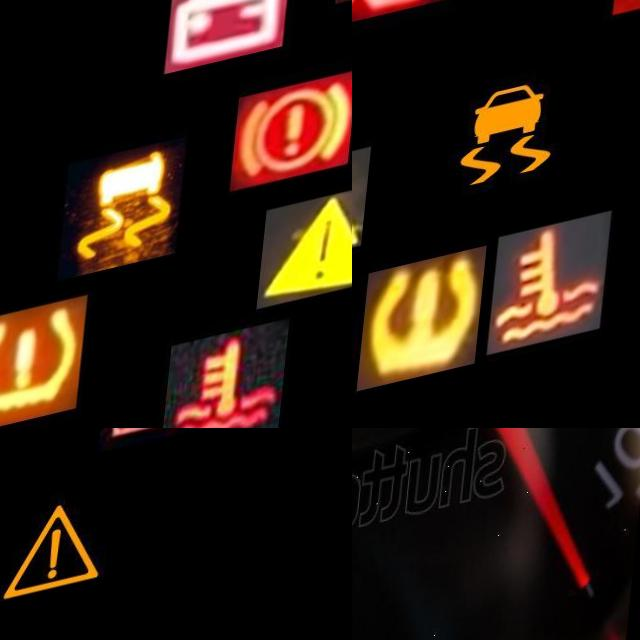Central Warning lamp: (4, 496, 131, 636), (267, 203, 352, 324), (352, 160, 378, 281)
Engine cooling system: (499, 237, 622, 376), (174, 334, 301, 428)
